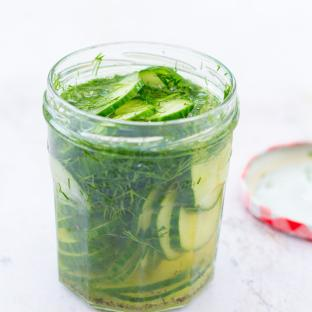Cucumber: (110, 265, 210, 302), (77, 72, 143, 116), (192, 141, 231, 210), (179, 197, 222, 251), (50, 157, 90, 212), (95, 271, 188, 293), (156, 192, 182, 260), (140, 67, 194, 91), (147, 99, 194, 121), (113, 98, 156, 120), (188, 99, 209, 116)
